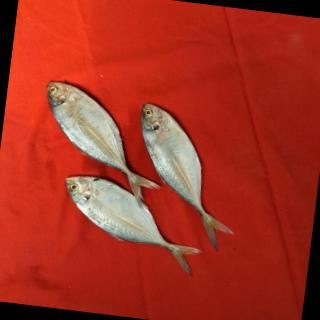Ikan: (21, 66, 260, 295)
